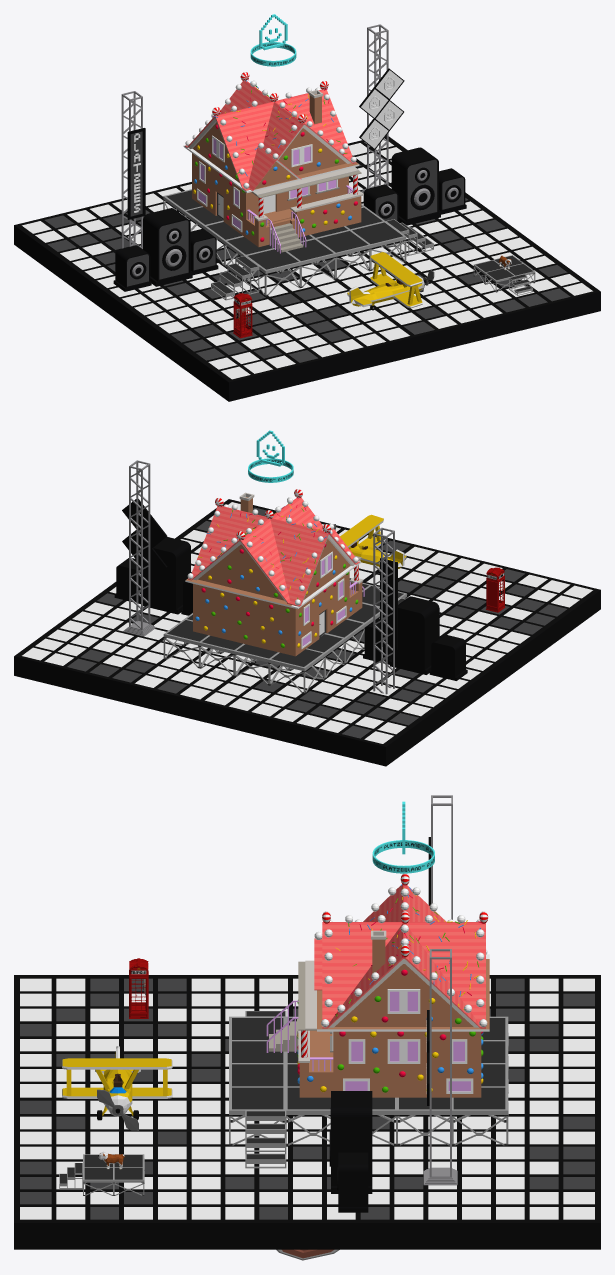
The picture shows the model from 3 angles, top to bottom: view 1: azimuth 30°, elevation 25°; view 2: azimuth 150°, elevation 25°; view 3: azimuth 270°, elevation 25°; orthographic projection. The views are drawn at different scales.
Visible parts, largest first — view 1: Cube.008, Cube.1203, VEHICLES_AIRPLANE, TYPE_PREMIUM, OBJRANDOM_PHONEBOOTH; view 2: Cube.008, Cube.1203, VEHICLES_AIRPLANE, TYPE_PREMIUM, OBJRANDOM_PHONEBOOTH; view 3: Cube.008, Cube.1203, VEHICLES_AIRPLANE, TYPE_PREMIUM, OBJRANDOM_PHONEBOOTH.
Part boxes in pixels (x1,y1,x2,y2): Cube.008: [14, 24, 600, 401]; Cube.1203: [183, 72, 363, 253]; VEHICLES_AIRPLANE: [347, 252, 434, 310]; TYPE_PREMIUM: [250, 14, 296, 66]; OBJRANDOM_PHONEBOOTH: [233, 293, 252, 338]; Cube.008: [14, 460, 600, 766]; Cube.1203: [185, 489, 364, 656]; VEHICLES_AIRPLANE: [333, 514, 406, 573]; TYPE_PREMIUM: [248, 430, 293, 482]; OBJRANDOM_PHONEBOOTH: [486, 567, 505, 612]; Cube.008: [14, 795, 600, 1249]; Cube.1203: [266, 873, 489, 1097]; VEHICLES_AIRPLANE: [62, 1046, 172, 1130]; TYPE_PREMIUM: [372, 801, 434, 873]; OBJRANDOM_PHONEBOOTH: [129, 958, 148, 1018].
Size of the model in its own units: 4000 by 3228 by 4000.
Materials: 64 (3 with a texture image).
